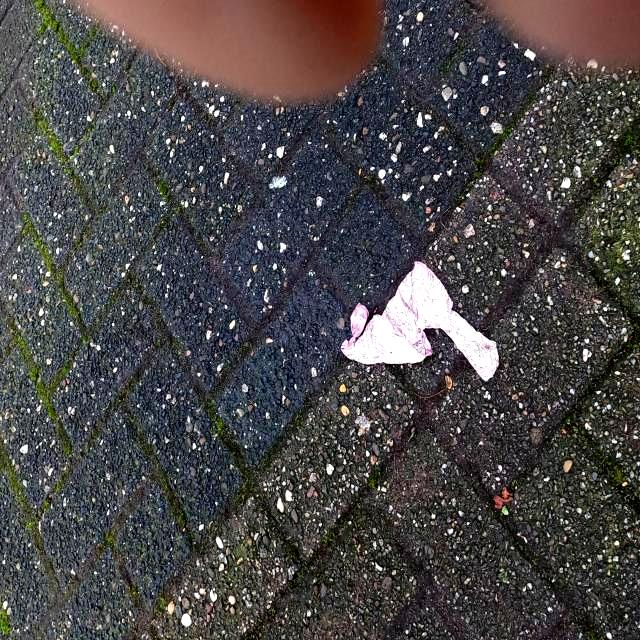Plastic: (339, 255, 503, 383)
